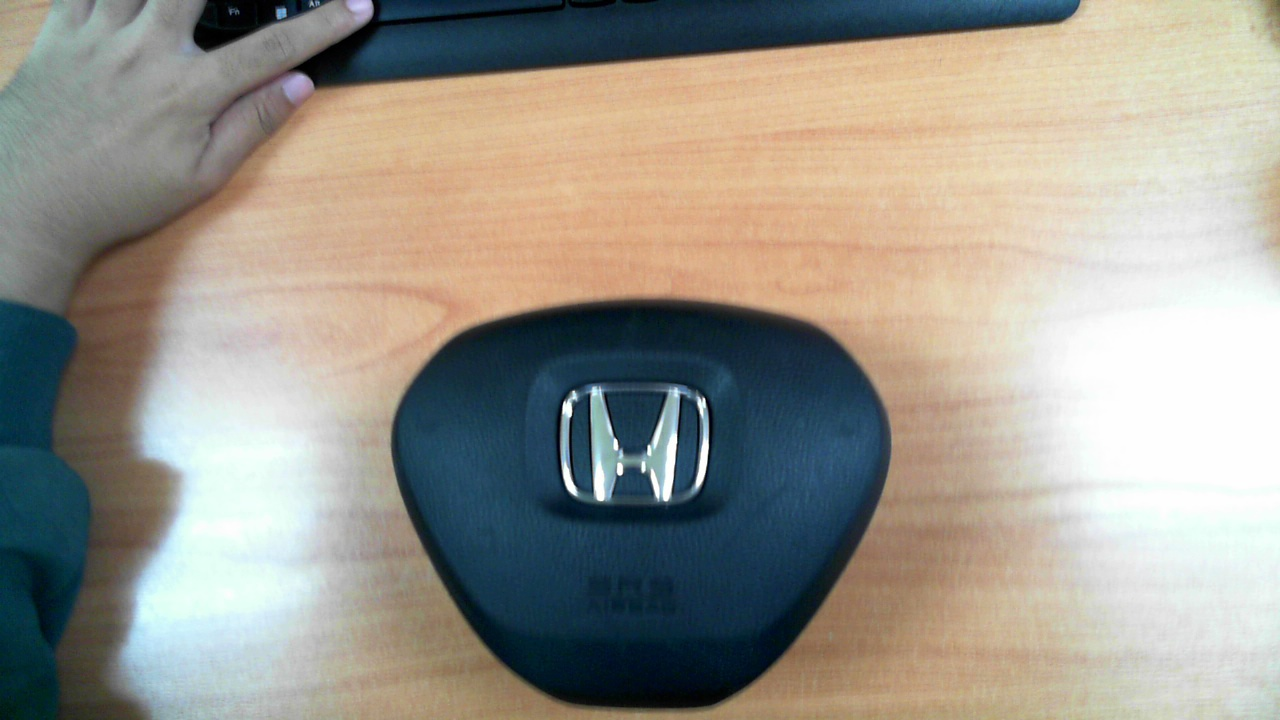Airbag: (391, 299, 892, 710)
Honda: (560, 382, 705, 507)
